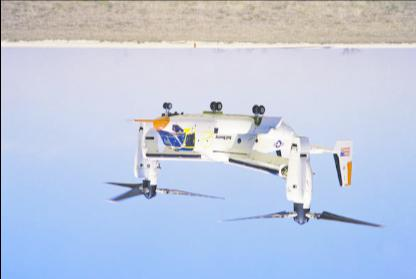Tornado: (100, 101, 386, 228)
